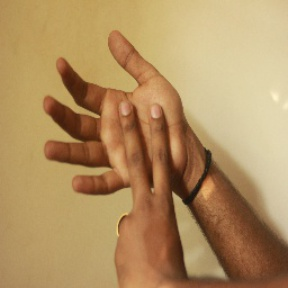N: (37, 25, 194, 247)
